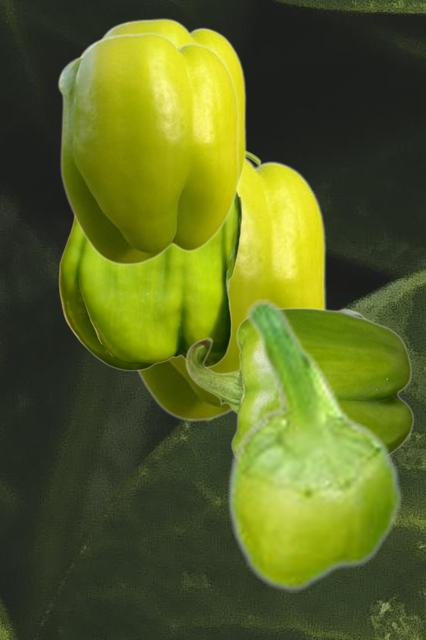bell_pepper: (226, 299, 402, 591), (136, 158, 325, 420), (58, 150, 260, 370), (57, 31, 238, 264), (185, 307, 413, 454), (80, 17, 245, 184)
